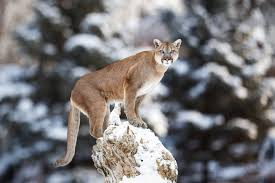Mountain Lion: (64, 39, 186, 126)
